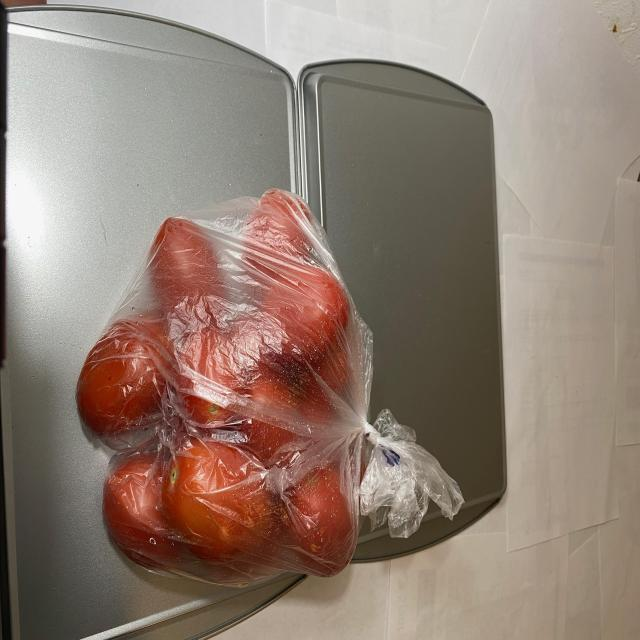tomato: (79, 198, 362, 593)
